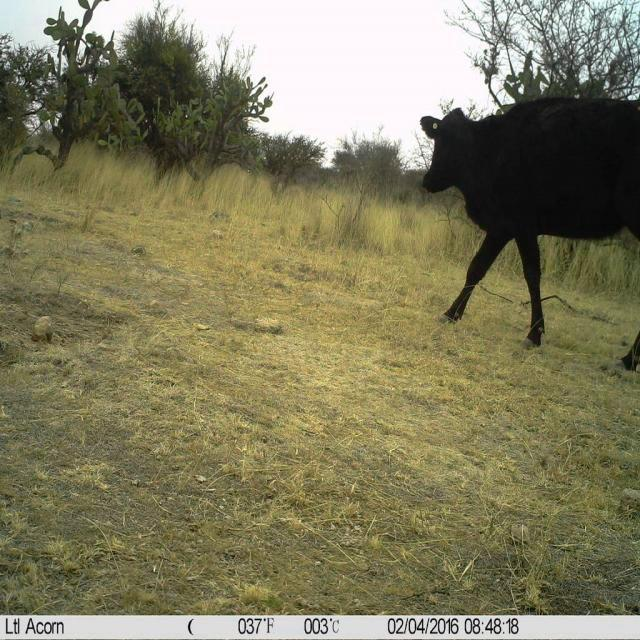cow: (421, 98, 640, 345)
